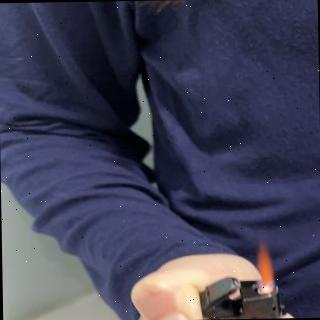fire: (254, 242, 276, 294)
